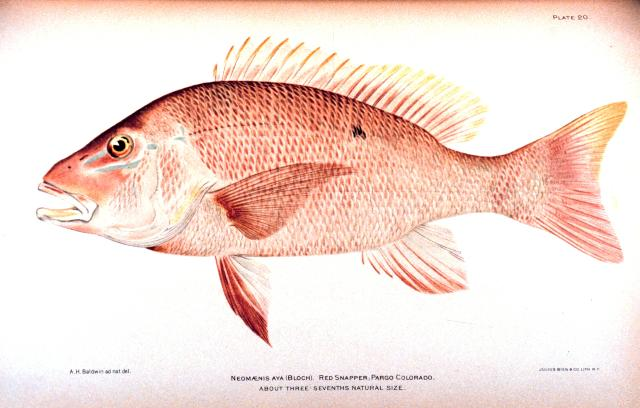Mulut: (26, 165, 92, 237)
Sirip Anal: (367, 216, 478, 298)
Sirip Dada: (202, 156, 361, 242)
Sirip Ekor: (540, 85, 632, 274)
Sirip Perut: (212, 246, 288, 352)
Sirip Punggung: (203, 23, 499, 159)
